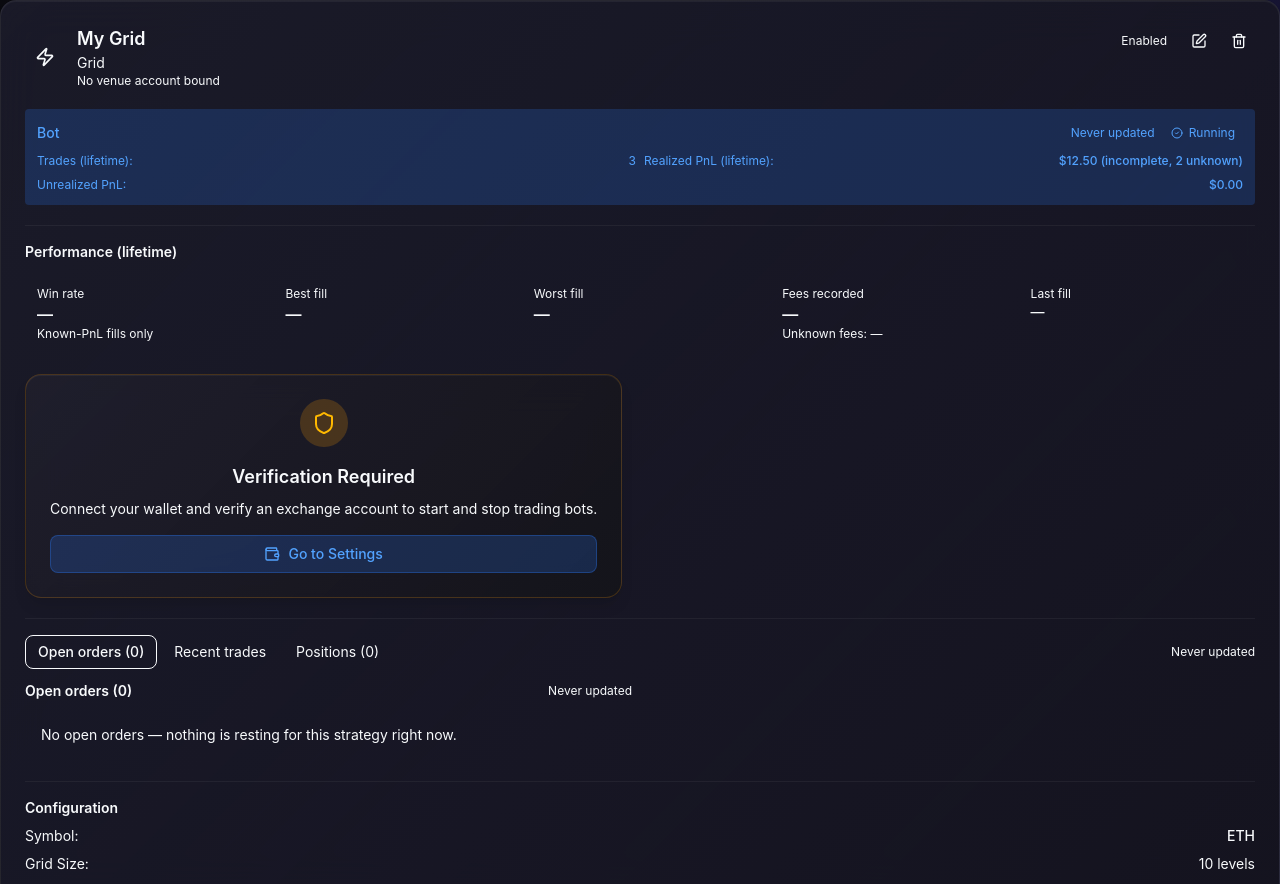
Test case: StrategyWorkspace › positions tab reports the flat state when the market filter empties the book
Click the tab "Positions (0)".
click(338, 652)  # box [283, 635, 392, 669]
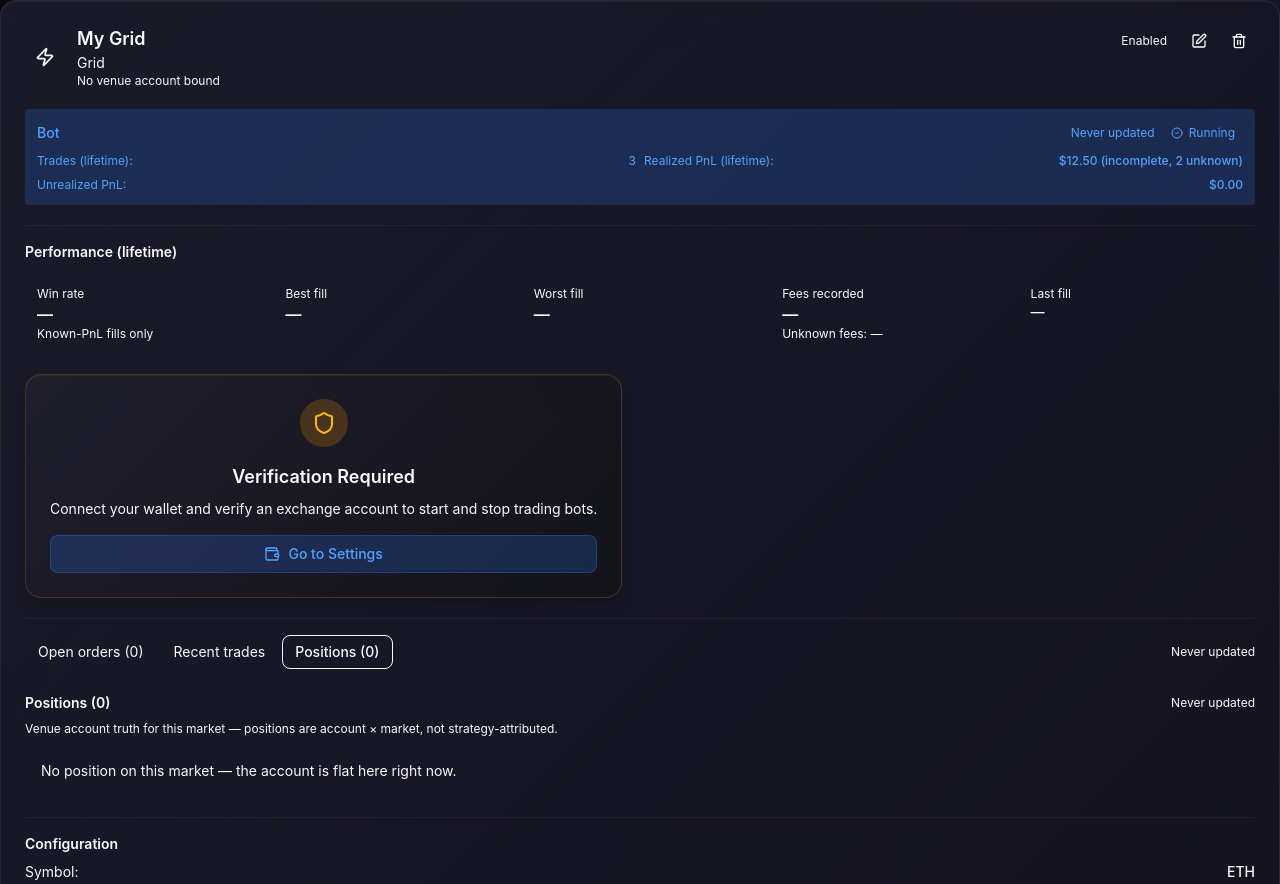
Result: the text "No position on this market" is shown at [41, 762, 457, 779]
